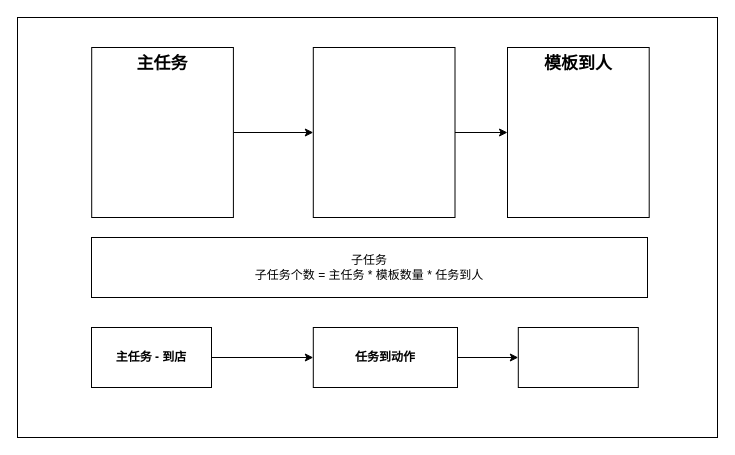
This 735x455 diagram has some shape labels left out. The shapes that lost their labels are listed below. From the top down, each one's centre as x and y in pixels, then its label:
At (x=383, y=132): "任务到模板".
At (x=577, y=357): "动作到SKU".
